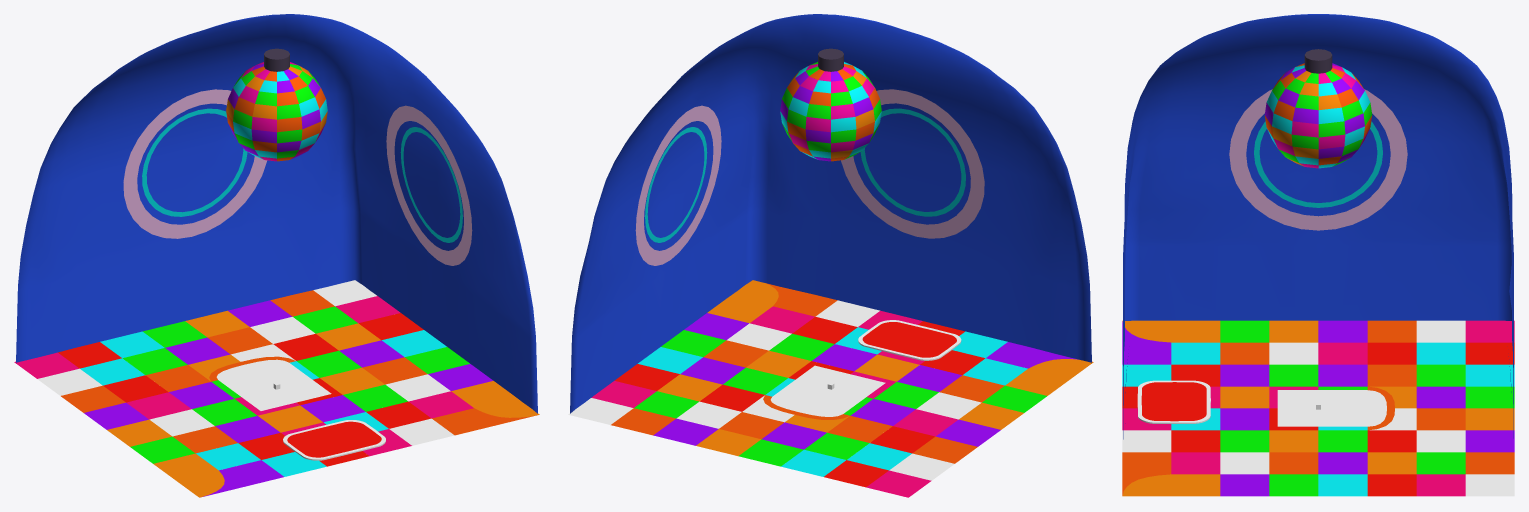
File: dance_interior.glb
The picture shows the model from 3 angles, left to right: view 1: azimuth 30°, elevation 25°; view 2: azimuth 150°, elevation 25°; view 3: azimuth 270°, elevation 25°; orthographic projection. The views are drawn at different scales.
Parts seen in each view (by area): view 1: Walls, Floor, Speakers, Disco_Ball, Platform; view 2: Walls, Floor, Speakers, Disco_Ball, Platform; view 3: Walls, Floor, Disco_Ball, Speakers, Platform.
Part boxes in pixels (x1=…): Walls: x1=16, y1=14, x2=537, y2=413; Floor: x1=14, y1=280, x2=539, y2=497; Speakers: x1=123, y1=89, x2=472, y2=265; Disco_Ball: x1=226, y1=48, x2=327, y2=161; Platform: x1=283, y1=420, x2=385, y2=460; Walls: x1=570, y1=14, x2=1091, y2=413; Floor: x1=568, y1=280, x2=1093, y2=497; Speakers: x1=635, y1=89, x2=984, y2=265; Disco_Ball: x1=780, y1=48, x2=881, y2=161; Platform: x1=858, y1=320, x2=961, y2=360; Walls: x1=1123, y1=14, x2=1513, y2=439; Floor: x1=1122, y1=320, x2=1514, y2=496; Disco_Ball: x1=1264, y1=49, x2=1372, y2=168; Speakers: x1=1229, y1=89, x2=1407, y2=230; Platform: x1=1137, y1=380, x2=1210, y2=423.
Size of what is drawn, in the model's own units: 234 by 221 by 220.
